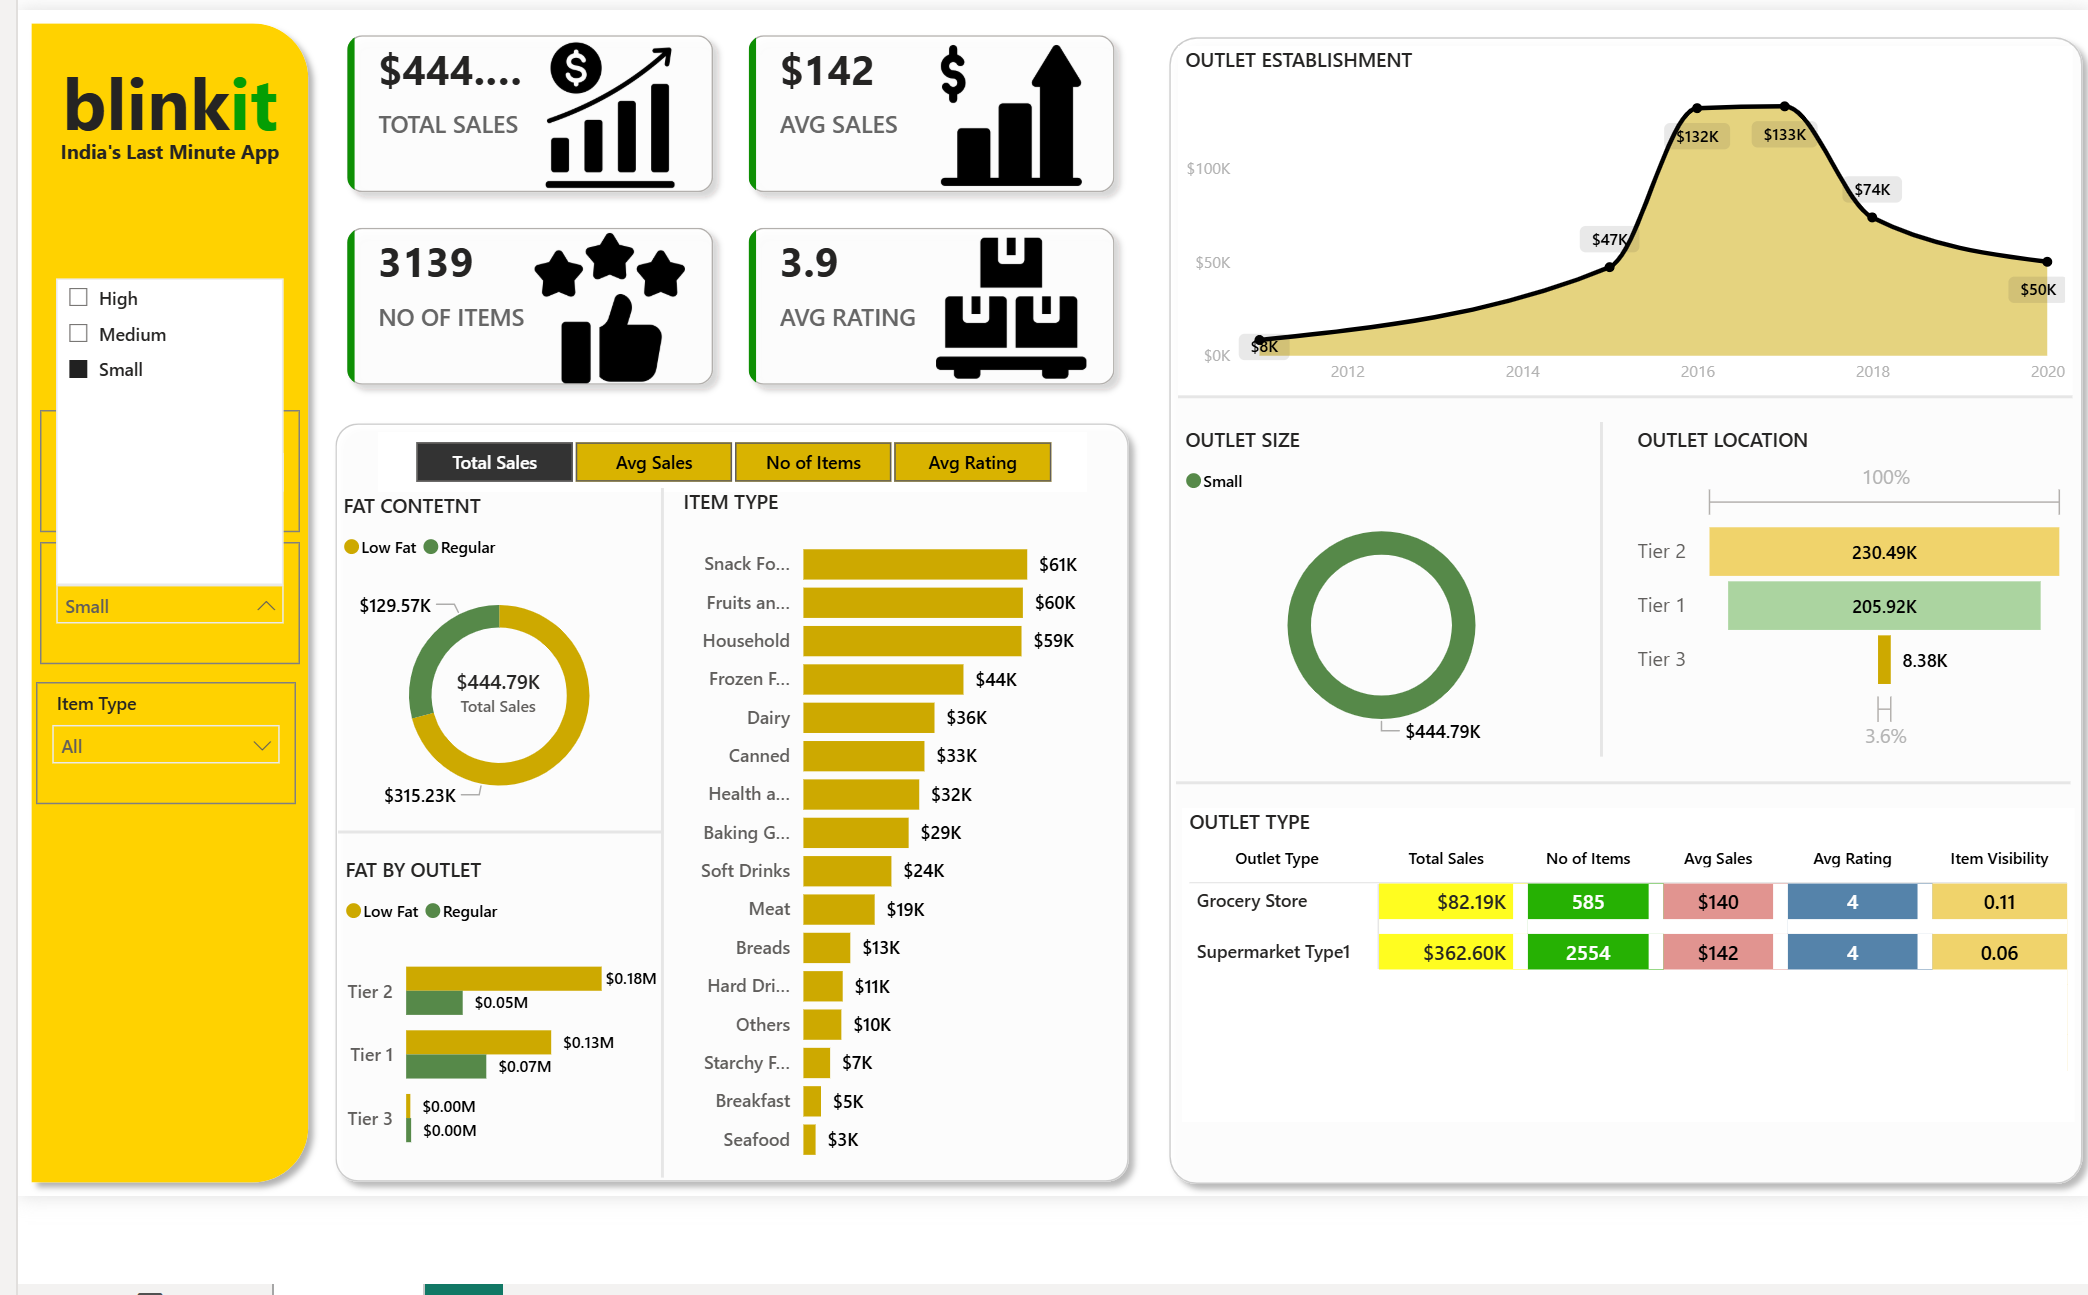

This screenshot's page, from the dashboard's own definition file:
{"tool":"powerbi","page":{"name":"Page 1","canvas":[1400,800],"ordinal":0},"visuals":[{"type":"shape","box":[0,0,205,800.4],"z":0},{"type":"textbox","box":[14.9,24.3,175.5,75.6],"z":1000},{"type":"textbox","box":[0,80.9,205,37.6],"z":2000},{"type":"cardVisual","fields":{"Data":["BlinkIT Grocery Data.Total Sales","BlinkIT Grocery Data.Avg Sales","BlinkIT Grocery Data.No of Items","BlinkIT Grocery Data.Avg Rating"]},"box":[205,0,553.6,270.5],"z":3000},{"type":"shape","box":[205,270.5,553.6,529.9],"z":4000},{"type":"donutChart","title":"FAT CONTETNT","fields":{"Y":["BlinkIT Grocery Data.Total Sales"],"Category":["BlinkIT Grocery Data.Item Fat Content"]},"box":[214.7,324.9,220.3,230.1],"z":5000},{"type":"slicer","fields":{"Values":["Metrics.Metrics"]},"box":[242.6,284.5,478.3,40.4],"z":6000},{"type":"cardVisual","fields":{"Data":["BlinkIT Grocery Data.Total Sales"]},"box":[274.7,416.9,100.4,86.5],"z":7000},{"type":"clusteredBarChart","title":"FAT BY OUTLET","fields":{"Y":["BlinkIT Grocery Data.Total Sales"],"Category":["BlinkIT Grocery Data.Outlet Location Type"],"Series":["BlinkIT Grocery Data.Item Fat Content"]},"box":[216,571.1,220.1,217.4],"z":8000},{"type":"shape","box":[216,538.7,220.1,32.4],"z":9000},{"type":"shape","box":[425.3,322.1,19.5,465.7],"z":10000},{"type":"barChart","title":"ITEM TYPE","fields":{"Y":["BlinkIT Grocery Data.Total Sales"],"Category":["BlinkIT Grocery Data.Item Type"]},"box":[444.8,322.1,292.8,465.7],"z":11000},{"type":"shape","box":[768.3,9.8,634.5,792],"z":12000},{"type":"lineChart","title":"OUTLET ESTABLISHMENT","fields":{"Y":["BlinkIT Grocery Data.Total Sales"],"Category":["BlinkIT Grocery Data.Outlet Establishment Year"]},"box":[783.7,23.7,603.8,237.1],"z":13000},{"type":"shape","box":[783.7,244,603.8,33.5],"z":14000},{"type":"donutChart","title":"OUTLET SIZE","fields":{"Y":["BlinkIT Grocery Data.Total Sales"],"Category":["BlinkIT Grocery Data.Outlet Size"]},"box":[783.7,280.3,274.7,224.5],"z":15000},{"type":"shape","box":[1058.4,277.5,20.9,225.9],"z":16000},{"type":"funnel","title":"OUTLET LOCATION","fields":{"Y":["Sum(BlinkIT Grocery Data.Sales)"],"Category":["BlinkIT Grocery Data.Outlet Location Type"]},"box":[1087.6,280.3,299.8,224.5],"z":17000},{"type":"shape","box":[782.3,504.8,603.8,33.5],"z":18000},{"type":"pivotTable","title":"OUTLET TYPE","fields":{"Rows":["BlinkIT Grocery Data.Outlet Type"],"Values":["BlinkIT Grocery Data.Total Sales","BlinkIT Grocery Data.No of Items","BlinkIT Grocery Data.Avg Sales","BlinkIT Grocery Data.Avg Rating","Avg(BlinkIT Grocery Data.Item Visibility)"]},"box":[785.1,538.2,602.4,212],"z":19000},{"type":"slicer","fields":{"Values":["BlinkIT Grocery Data.Outlet Location Type"]},"box":[15.3,270.5,175.7,82.3],"z":20000},{"type":"slicer","fields":{"Values":["BlinkIT Grocery Data.Outlet Size"]},"box":[15.3,359.8,175.7,82.3],"z":21000},{"type":"slicer","fields":{"Values":["BlinkIT Grocery Data.Item Type"]},"box":[12.5,453.2,175.7,82.3],"z":22000},{"type":"textbox","box":[14.9,232.2,172.8,31.1],"z":22001}]}

Visuals, with their boxes on the page's 1400x800 design canvas (x1, y1, x2, y2). These are canvas units, not pixel positions in the 2088x1295 screenshot, which may show the page scaled, cropped or inside an application window:
shape: 0, 0, 205, 800
textbox: 15, 24, 190, 100
textbox: 0, 81, 205, 118
cardVisual - BlinkIT Grocery Data.Total Sales x BlinkIT Grocery Data.Avg Sales: 205, 0, 759, 270
shape: 205, 270, 759, 800
"FAT CONTETNT" donutChart: 215, 325, 435, 555
slicer - Metrics.Metrics: 243, 284, 721, 325
cardVisual - BlinkIT Grocery Data.Total Sales: 275, 417, 375, 503
"FAT BY OUTLET" clusteredBarChart: 216, 571, 436, 788
shape: 216, 539, 436, 571
shape: 425, 322, 445, 788
"ITEM TYPE" barChart: 445, 322, 738, 788
shape: 768, 10, 1403, 802
"OUTLET ESTABLISHMENT" lineChart: 784, 24, 1388, 261
shape: 784, 244, 1388, 278
"OUTLET SIZE" donutChart: 784, 280, 1058, 505
shape: 1058, 278, 1079, 503
"OUTLET LOCATION" funnel: 1088, 280, 1387, 505
shape: 782, 505, 1386, 538
"OUTLET TYPE" pivotTable: 785, 538, 1388, 750
slicer - BlinkIT Grocery Data.Outlet Location Type: 15, 270, 191, 353
slicer - BlinkIT Grocery Data.Outlet Size: 15, 360, 191, 442
slicer - BlinkIT Grocery Data.Item Type: 12, 453, 188, 536
textbox: 15, 232, 188, 263
